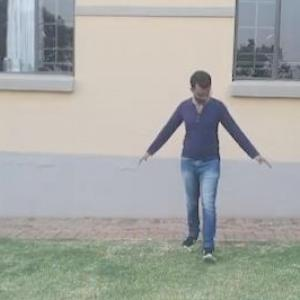land: (120, 46, 270, 272)
